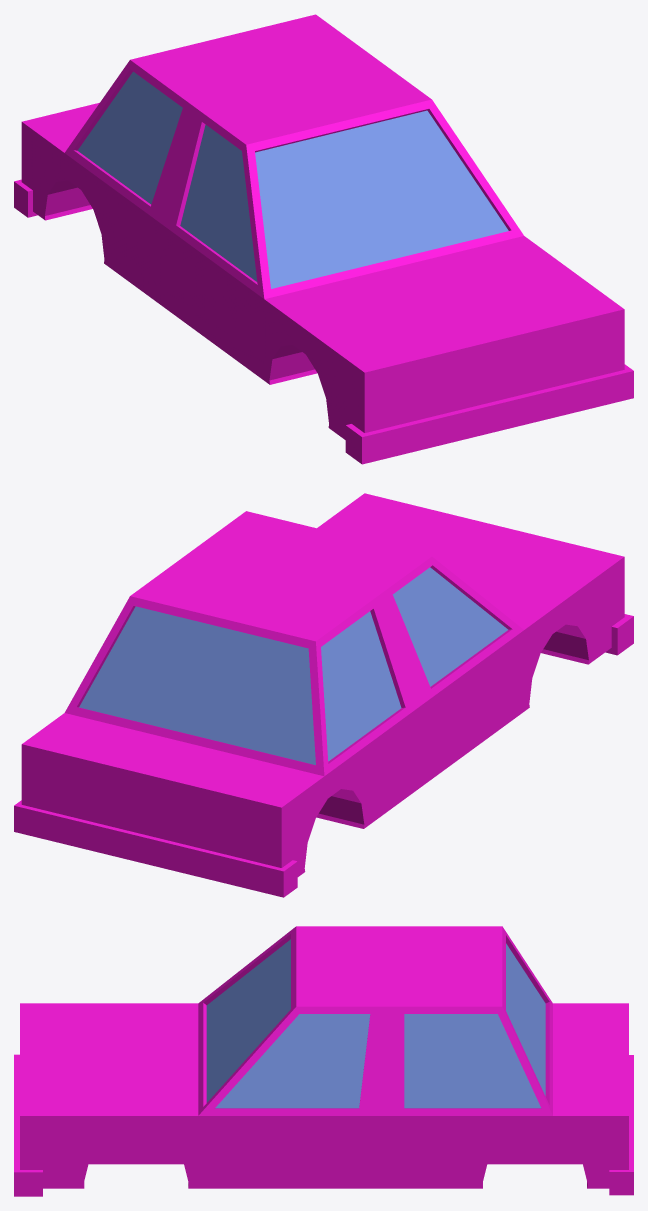
Rendered from body_pink.gltf.
The picture shows the model from 3 angles, top to bottom: view 1: azimuth 30°, elevation 25°; view 2: azimuth 150°, elevation 25°; view 3: azimuth 270°, elevation 25°; orthographic projection. The views are drawn at different scales.
Parts seen in each view (by area): view 1: Body; view 2: Body; view 3: Body.
Part boxes in pixels (x1,y1,x2,y2): Body: (14,14,633,464); Body: (14,493,633,897); Body: (14,926,633,1196).
Size of what is drawn, in the model's own units: 2.09 by 1.42 by 4.65.
